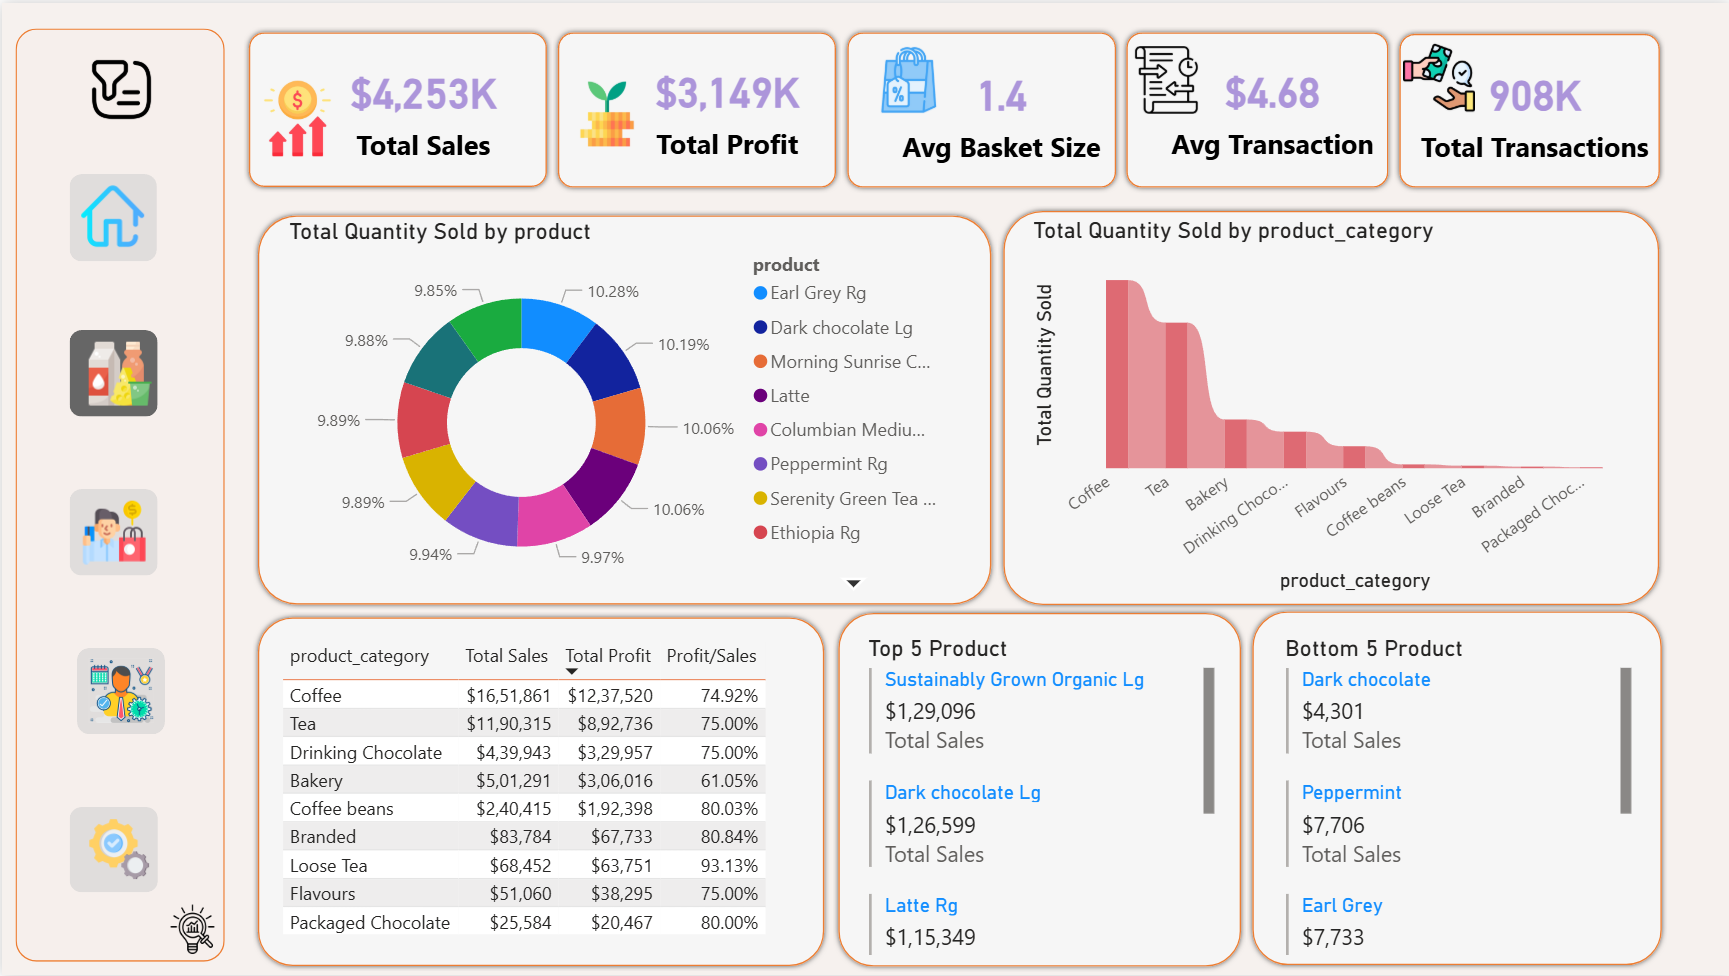

What the dashboard file says about the page in this screenshot:
{"tool":"powerbi","page":{"name":"Product","canvas":[1280,720],"ordinal":1},"visuals":[{"type":"card","fields":{"Values":["DAX.Total Sales"]},"box":[217.8,17.8,188.9,116.7],"z":0,"group":"g1"},{"type":"shape","title":"Nav BG","box":[10,18.8,155,691.2],"z":0,"group":"g2"},{"type":"group","id":"g1","title":"Page1","box":[178.8,17.5,1054.1,699.4],"z":1000},{"type":"shape","box":[178.8,17.5,228.8,122.5],"z":1000,"group":"g1"},{"type":"image","title":"Filter_Img","box":[58.9,34.2,58.9,59],"z":1000,"group":"g2"},{"type":"shape","box":[408,18,214,123],"z":2000,"group":"g1"},{"type":"group","id":"g2","title":"Nav","box":[10,18.8,155,691.2],"z":2000},{"type":"shape","title":"operation_bg","box":[49.9,595.2,65.6,63.2],"z":2000,"group":"g2"},{"type":"shape","box":[622,18,207,123],"z":3000,"group":"g1"},{"type":"shape","box":[615,447.5,306.2,270],"z":3000},{"type":"shape","title":"Emp_bg","box":[55.9,477.6,65.1,63.9],"z":3000,"group":"g2"},{"type":"shape","box":[829,18,202,123],"z":4000,"group":"g1"},{"type":"donutChart","fields":{"Category":["Product Lookup.product"],"Y":["DAX.Total Quantity Sold"]},"box":[207.5,158.8,501.2,283.8],"z":4000},{"type":"shape","title":"Customer_bg","box":[49.9,359.9,65.4,64.3],"z":4000,"group":"g2"},{"type":"shape","box":[1031,18.2,200.9,121.8],"z":5000,"group":"g1"},{"type":"shape","title":"Home_bg","box":[49.9,126.8,64.8,64.9],"z":5000,"group":"g2"},{"type":"ribbonChart","fields":{"Y":["DAX.Total Quantity Sold"],"Category":["Product Lookup.product_category"]},"box":[758.8,157.5,450,282.5],"z":5000},{"type":"card","fields":{"Values":["DAX.Total Sales"]},"box":[218,21,188,114],"z":6000,"group":"g1"},{"type":"shape","title":"Product_bg","box":[49.9,242.4,65.4,64.3],"z":6000,"group":"g2"},{"type":"tableEx","fields":{"Values":["Product Lookup.product_category","DAX.Total Sales","DAX.Total Profit","DAX.Profit/Sales"]},"box":[202.5,467.5,396.2,228.8],"z":6000},{"type":"card","fields":{"Values":["DAX.Total Profit"]},"box":[459,21,156,113],"z":7000,"group":"g1"},{"type":"multiRowCard","title":"Top 5 Product","fields":{"Values":["DAX.Total Sales","Product Lookup.product"]},"box":[636.2,467.5,266.2,242.5],"z":7000},{"type":"image","title":"Operation_img","box":[57.9,598.2,57.6,57.7],"z":7000,"group":"g2"},{"type":"card","fields":{"Values":["DAX.Average Basket Size"]},"box":[660,24,160,111],"z":8000,"group":"g1"},{"type":"image","title":"Customer_img","box":[54.1,363.5,57.3,57.4],"z":8000,"group":"g2"},{"type":"multiRowCard","title":"Bottom 5 Product","fields":{"Values":["DAX.Total Sales","Product Lookup.product"]},"box":[945,467.5,266.2,242.5],"z":8000},{"type":"card","fields":{"Values":["DAX.Average Transaction Value"]},"box":[853,21,175,113],"z":9000,"group":"g1"},{"type":"image","title":"Product_img","box":[58.6,245.5,57.3,58.6],"z":9000,"group":"g2"},{"type":"image","box":[117.5,661.2,46.2,50],"z":9000},{"type":"card","fields":{"Values":["DAX.Total Number of Transactions"]},"box":[1037.3,23.6,194.5,110.9],"z":10000,"group":"g1"},{"type":"image","title":"Emp_img","box":[58.6,480.2,58.6,58.6],"z":10000,"group":"g2"},{"type":"image","box":[185,52,66,67],"z":11000,"group":"g1"},{"type":"image","title":"Home_img","box":[53.6,128.7,57.3,57.4],"z":11000,"group":"g2"},{"type":"image","box":[419,52,58,60],"z":12000,"group":"g1"},{"type":"actionButton","title":"Home_Btn","box":[49.9,126.6,64.8,64.9],"z":12000,"group":"g2"},{"type":"image","box":[640,26,63,60],"z":13000,"group":"g1"},{"type":"actionButton","title":"Filter_btn","box":[58.9,33.6,58.8,58.9],"z":13000,"group":"g2"},{"type":"image","box":[1031,22.7,66.4,63.6],"z":14000,"group":"g1"},{"type":"actionButton","title":"Product_Btn","box":[49.9,242.1,64.8,64.9],"z":14000,"group":"g2"},{"type":"image","box":[829.1,26.4,67.3,60],"z":15000,"group":"g1"},{"type":"actionButton","title":"Emp_Btn","box":[55.9,477.6,64.8,64.9],"z":15000,"group":"g2"},{"type":"shape","box":[737.9,149.4,493.8,300],"z":16000,"group":"g1"},{"type":"actionButton","title":"Customer_Btn","box":[49.9,359.9,64.8,64.9],"z":16000,"group":"g2"},{"type":"shape","box":[185.4,153.1,551.2,296.2],"z":17000,"group":"g1"},{"type":"actionButton","title":"Operation_Btn","box":[49.9,594.4,64.8,64.9],"z":17000,"group":"g2"},{"type":"shape","box":[185.4,450.6,427.5,266.2],"z":19000,"group":"g1"},{"type":"shape","box":[921.6,446.9,311.2,270],"z":21000,"group":"g1"}]}

Visuals, with their boxes in screenshot pixels (x1, y1, x2, y2), scaled from the page's 1280x720 canvas onto the 1729x976 screenshot:
card - DAX.Total Sales: left=294, top=24, right=549, bottom=182
"Nav BG" shape: left=14, top=25, right=223, bottom=962
"Page1" group: left=242, top=24, right=1665, bottom=972
shape: left=242, top=24, right=551, bottom=190
"Filter_Img" image: left=80, top=46, right=159, bottom=126
shape: left=551, top=24, right=840, bottom=191
"Nav" group: left=14, top=25, right=223, bottom=962
"operation_bg" shape: left=67, top=807, right=156, bottom=892
shape: left=840, top=24, right=1120, bottom=191
shape: left=831, top=607, right=1244, bottom=973
"Emp_bg" shape: left=76, top=647, right=163, bottom=734
shape: left=1120, top=24, right=1393, bottom=191
donutChart - Product Lookup.product x DAX.Total Quantity Sold: left=280, top=215, right=957, bottom=600
"Customer_bg" shape: left=67, top=488, right=156, bottom=575
shape: left=1393, top=25, right=1664, bottom=190
"Home_bg" shape: left=67, top=172, right=155, bottom=260
ribbonChart - DAX.Total Quantity Sold x Product Lookup.product_category: left=1025, top=214, right=1633, bottom=596
card - DAX.Total Sales: left=294, top=28, right=548, bottom=183
"Product_bg" shape: left=67, top=329, right=156, bottom=416
tableEx - Product Lookup.product_category x DAX.Total Sales: left=274, top=634, right=809, bottom=944
card - DAX.Total Profit: left=620, top=28, right=831, bottom=182
"Top 5 Product" multiRowCard: left=859, top=634, right=1219, bottom=962
"Operation_img" image: left=78, top=811, right=156, bottom=889
card - DAX.Average Basket Size: left=892, top=33, right=1108, bottom=183
"Customer_img" image: left=73, top=493, right=150, bottom=571
"Bottom 5 Product" multiRowCard: left=1276, top=634, right=1636, bottom=962
card - DAX.Average Transaction Value: left=1152, top=28, right=1389, bottom=182
"Product_img" image: left=79, top=333, right=157, bottom=412
image: left=159, top=896, right=221, bottom=964
card - DAX.Total Number of Transactions: left=1401, top=32, right=1664, bottom=182
"Emp_img" image: left=79, top=651, right=158, bottom=730
image: left=250, top=70, right=339, bottom=161
"Home_img" image: left=72, top=174, right=150, bottom=252
image: left=566, top=70, right=644, bottom=152
"Home_Btn" actionButton: left=67, top=172, right=155, bottom=260
image: left=864, top=35, right=950, bottom=117
"Filter_btn" actionButton: left=80, top=46, right=159, bottom=125
image: left=1393, top=31, right=1482, bottom=117
"Product_Btn" actionButton: left=67, top=328, right=155, bottom=416
image: left=1120, top=36, right=1211, bottom=117
"Emp_Btn" actionButton: left=76, top=647, right=163, bottom=735
shape: left=997, top=203, right=1664, bottom=609
"Customer_Btn" actionButton: left=67, top=488, right=155, bottom=576
shape: left=250, top=208, right=995, bottom=609
"Operation_Btn" actionButton: left=67, top=806, right=155, bottom=894
shape: left=250, top=611, right=828, bottom=972
shape: left=1245, top=606, right=1665, bottom=972
